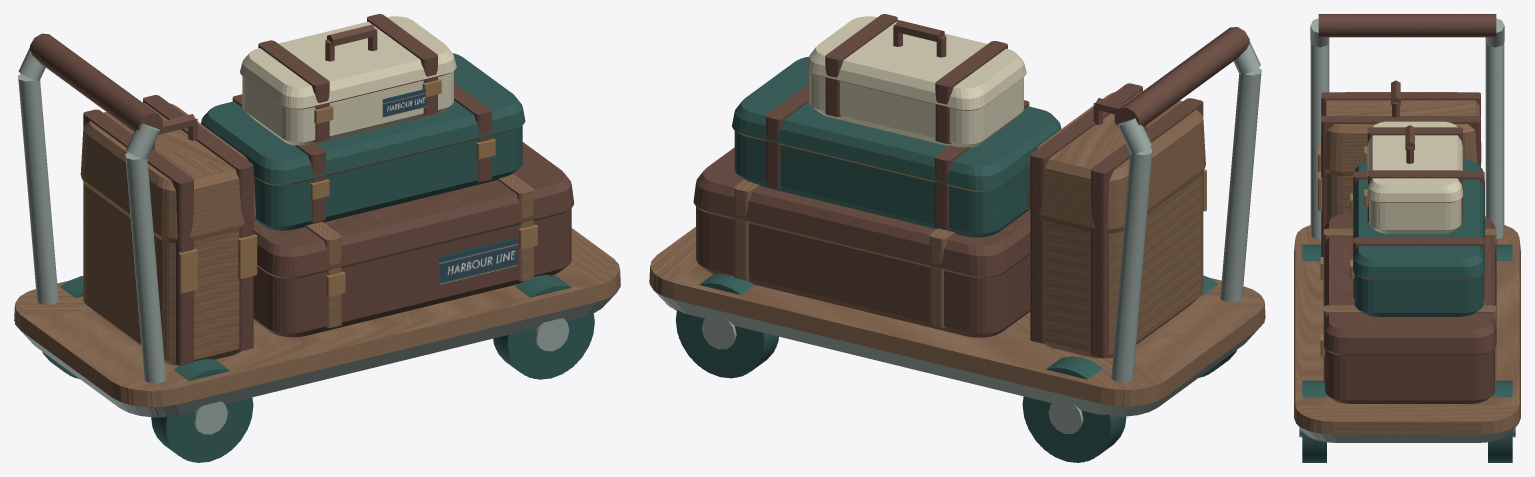
The model's file is LuggageTrolley.fbx.
The picture shows the model from 3 angles, left to right: view 1: azimuth 30°, elevation 25°; view 2: azimuth 150°, elevation 25°; view 3: azimuth 270°, elevation 25°; orthographic projection. The views are drawn at different scales.
Parts seen in each view (by area): view 1: LuggageTrolley Close, LuggageTrolley Street, LuggageTrolley Horizon; view 2: LuggageTrolley Close, LuggageTrolley Street, LuggageTrolley Horizon; view 3: LuggageTrolley Close, LuggageTrolley Street, LuggageTrolley Horizon.
Boxes of the visible parts, box(x1,y1,x2,y2) form: LuggageTrolley Close: box(14, 14, 620, 462); LuggageTrolley Street: box(14, 14, 620, 462); LuggageTrolley Horizon: box(21, 14, 594, 461); LuggageTrolley Close: box(649, 14, 1264, 462); LuggageTrolley Street: box(649, 15, 1265, 462); LuggageTrolley Horizon: box(662, 15, 1257, 461); LuggageTrolley Close: box(1294, 14, 1520, 462); LuggageTrolley Street: box(1295, 92, 1519, 452); LuggageTrolley Horizon: box(1295, 92, 1518, 462).
Bounding box in the file's own units: 184 × 124 × 88.
